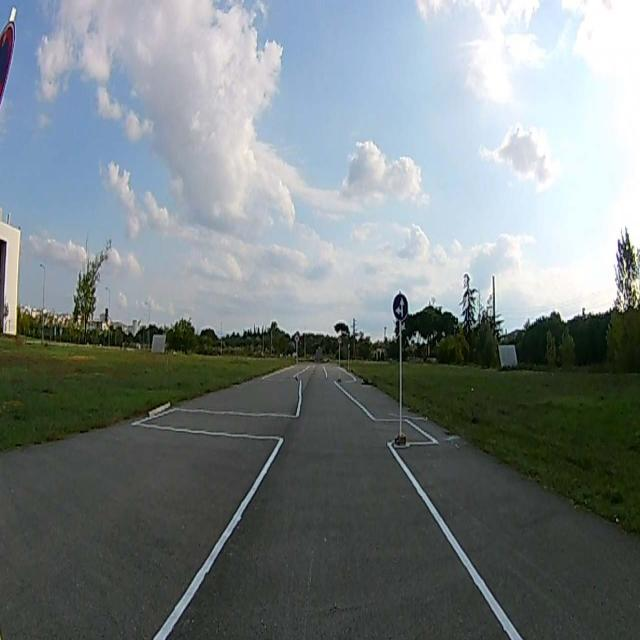ilerisol: (392, 293, 408, 320)
